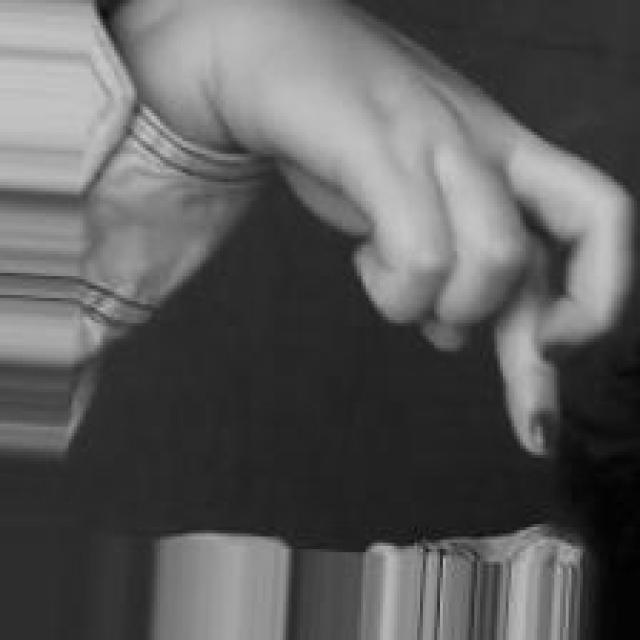P: (114, 0, 637, 467)
